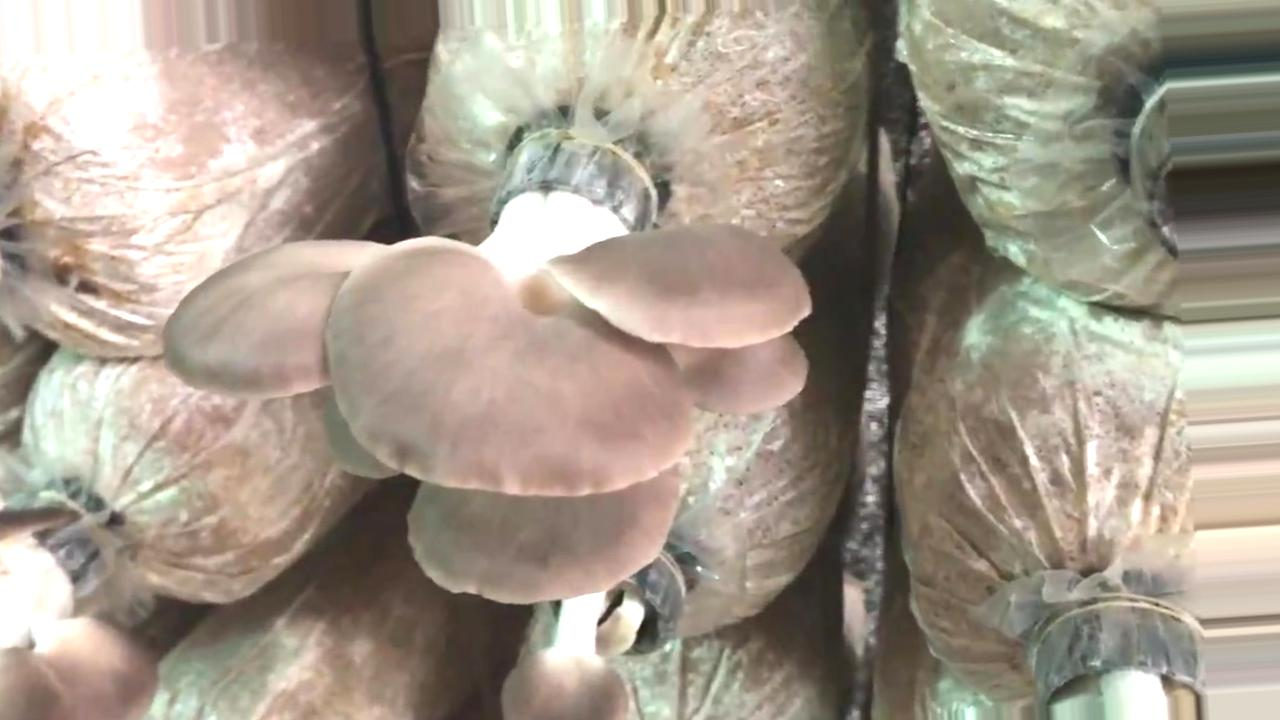nam: (163, 139, 810, 605), (1, 491, 159, 720), (504, 553, 696, 720), (1038, 602, 1202, 720)
